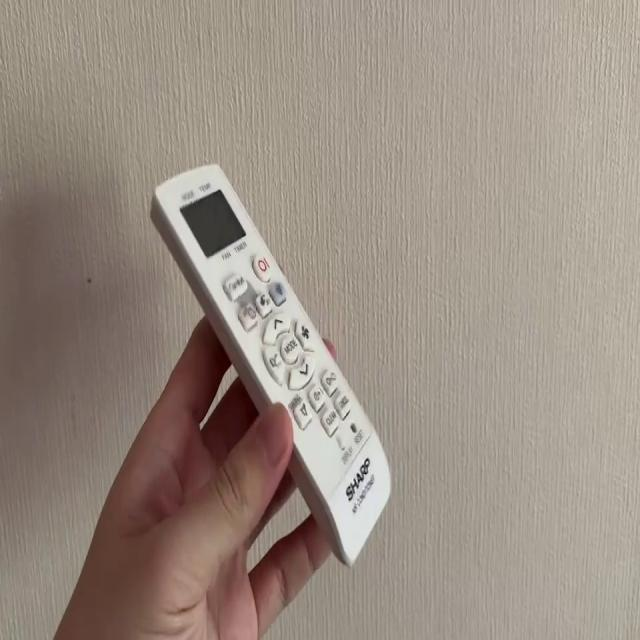remote: (150, 163, 393, 567)
